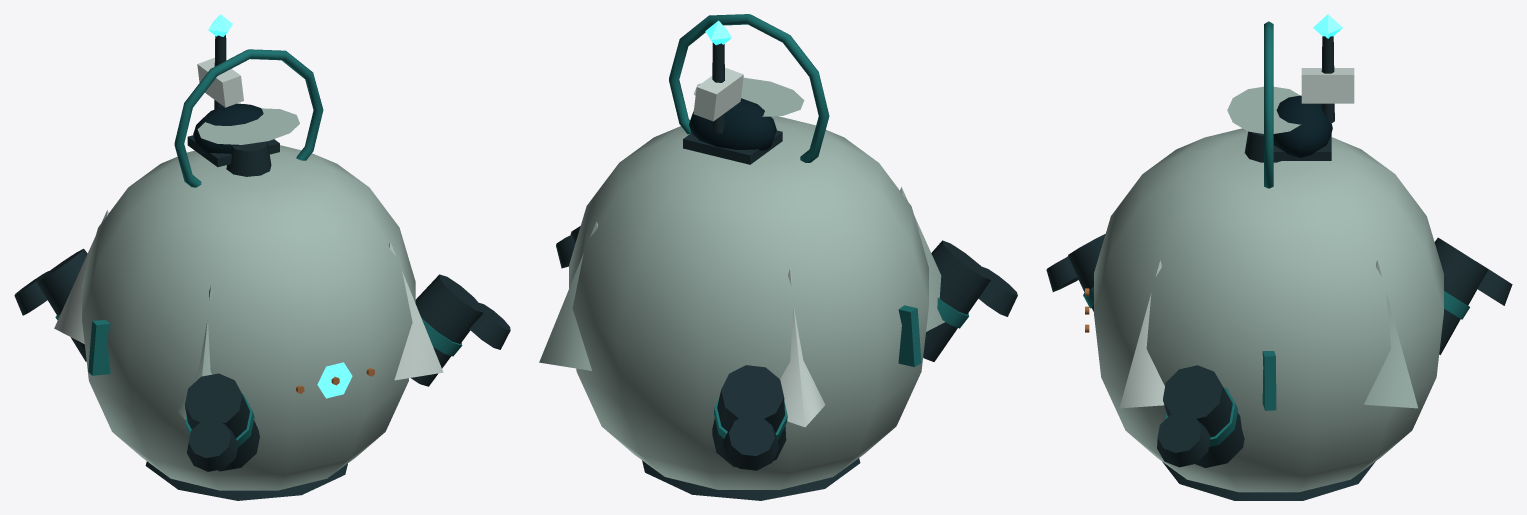
File: asset.glb
The picture shows the model from 3 angles, left to right: view 1: azimuth 30°, elevation 25°; view 2: azimuth 150°, elevation 25°; view 3: azimuth 270°, elevation 25°; orthographic projection. The views are drawn at different scales.
Visible parts, largest first — view 1: Faceted_Main_Hull, Thruster_Pod_2, Dish_Edge_Rim, Thruster_Pod_1, Dish_Inset_Panel, Armored_Fin_1, Thruster_Nozzle_2, Lower_Armored_Keel, Thruster_Pod_3, Faceted_Cockpit, Armored_Fin_3, Dish_Support_Stem (+8 smaller); view 2: Faceted_Main_Hull, Dish_Edge_Rim, Thruster_Pod_3, Thruster_Pod_2, Faceted_Cockpit, Armored_Fin_3, Thruster_Nozzle_3, Armored_Fin_4, Lower_Armored_Keel, Top_Antenna_Fin, Dish_Inset_Panel, Hull_Armor_Plate_1 (+4 smaller); view 3: Faceted_Main_Hull, Thruster_Pod_1, Faceted_Cockpit, Thruster_Pod_3, Armored_Fin_4, Thruster_Nozzle_1, Armored_Fin_1, Dish_Inset_Panel, Top_Antenna_Fin, Lower_Armored_Keel, Dish_Edge_Rim, Thruster_Pod_2 (+6 smaller).
Part boxes in pixels (x1,y1,x2,y2): Faceted_Main_Hull: (82,145,415,490); Thruster_Pod_2: (185,373,259,471); Dish_Edge_Rim: (174,49,323,187); Thruster_Pod_1: (411,274,483,386); Dish_Inset_Panel: (197,108,299,144); Armored_Fin_1: (389,242,443,380); Thruster_Nozzle_2: (187,422,238,471); Lower_Armored_Keel: (145,461,347,500); Thruster_Pod_3: (36,248,87,361); Faceted_Cockpit: (193,103,267,153); Armored_Fin_3: (54,210,108,343); Dish_Support_Stem: (226,141,271,176); Faceted_Main_Hull: (569,116,928,489); Dish_Edge_Rim: (669,14,829,162); Thruster_Pod_3: (712,365,786,467); Thruster_Pod_2: (923,240,990,361); Faceted_Cockpit: (689,98,776,150); Armored_Fin_3: (780,269,825,427); Thruster_Nozzle_3: (722,415,778,470); Armored_Fin_4: (539,221,597,370); Lower_Armored_Keel: (642,458,860,500); Top_Antenna_Fin: (693,67,743,121); Dish_Inset_Panel: (694,77,804,116); Hull_Armor_Plate_1: (898,305,921,366); Faceted_Main_Hull: (1094,128,1443,492); Thruster_Pod_1: (1163,365,1244,467); Faceted_Cockpit: (1273,95,1332,158); Thruster_Pod_3: (1434,237,1488,354); Armored_Fin_4: (1364,260,1417,408); Thruster_Nozzle_1: (1157,412,1210,467); Armored_Fin_1: (1119,260,1164,408); Dish_Inset_Panel: (1227,86,1301,133); Top_Antenna_Fin: (1301,68,1354,103); Lower_Armored_Keel: (1162,461,1375,500); Dish_Edge_Rim: (1264,21,1273,188); Thruster_Pod_2: (1067,234,1105,311).
Size of what is drawn, in the model's own units: 3.61 by 3.9 by 3.7.
